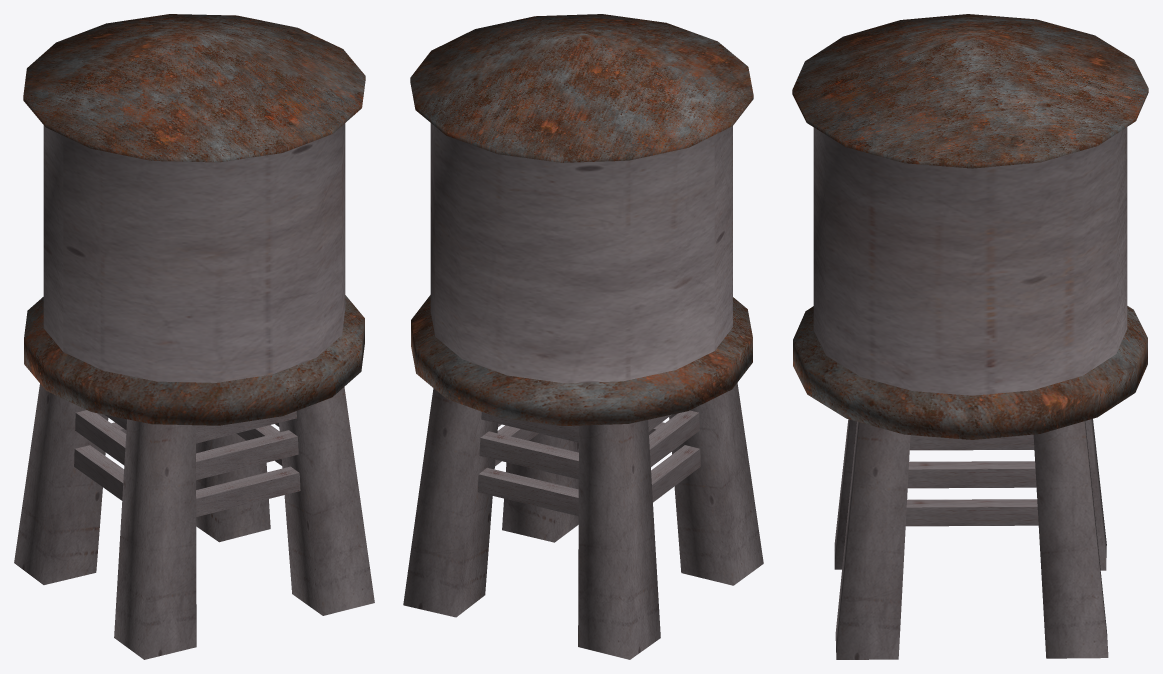
File: Water Tower.fbx
3 views of the same model, side by side, from view 1: azimuth 30°, elevation 25°; view 2: azimuth 150°, elevation 25°; view 3: azimuth 270°, elevation 25° (orthographic). The views are drawn at different scales.
Parts seen in each view (by area): view 1: Water Tower; view 2: Water Tower; view 3: Water Tower.
Part boxes in pixels (bbox=[...]): Water Tower: bbox=[14, 14, 374, 659]; Water Tower: bbox=[403, 14, 763, 659]; Water Tower: bbox=[792, 14, 1148, 659].
Size of the model in its own units: 341 by 595 by 341.
